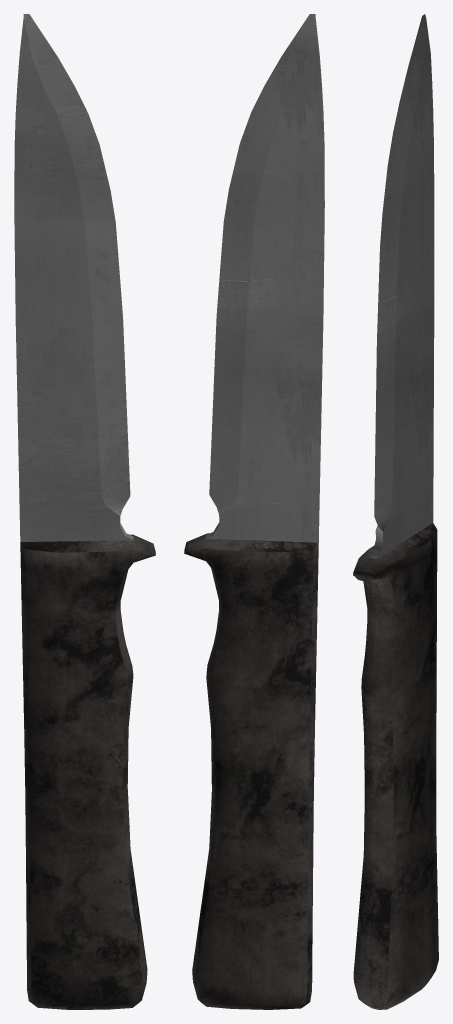
Rendered from Couteau.fbx.
3 renders of one model, left to right at view 1: azimuth 30°, elevation 25°; view 2: azimuth 210°, elevation 25°; view 3: azimuth 270°, elevation 25°, orthographic. The views are drawn at different scales.
Parts seen in each view (by area): view 1: Couteau; view 2: Couteau; view 3: Couteau.
Boxes of the visible parts, x1,y1,x2,y2 form: Couteau: [14, 14, 155, 1009]; Couteau: [184, 14, 324, 1009]; Couteau: [353, 14, 438, 1009].
Size of the model in its own units: 5.56 by 47.36 by 3.86.
Materials: 1 (1 with a texture image).
